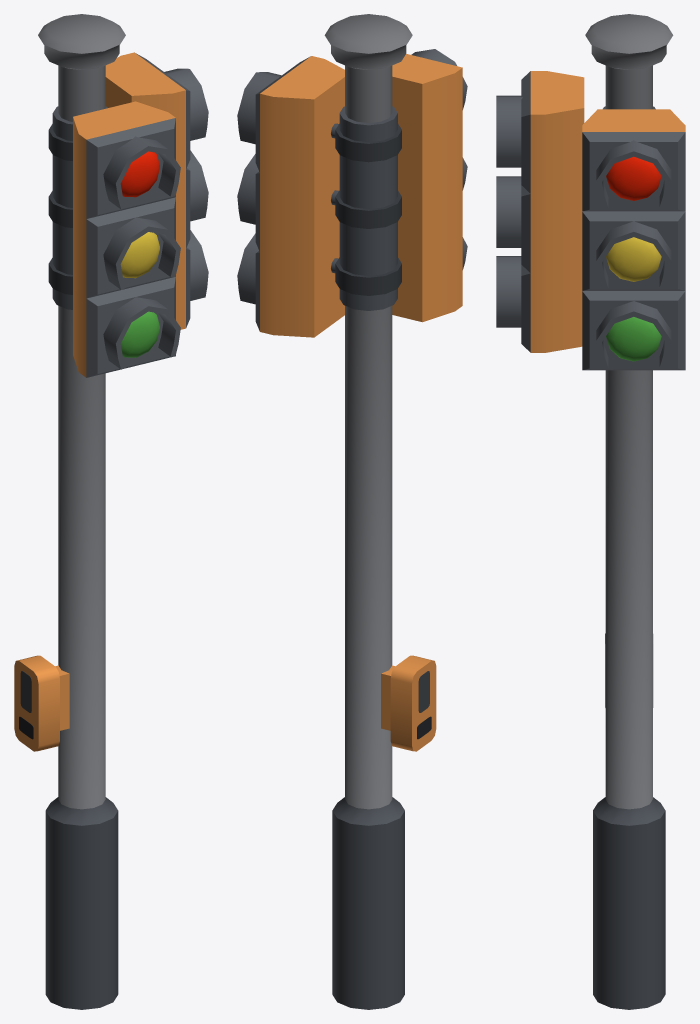
File: Traffic Light_2.fbx
The picture shows the model from 3 angles, left to right: view 1: azimuth 30°, elevation 25°; view 2: azimuth 150°, elevation 25°; view 3: azimuth 270°, elevation 25°; orthographic projection.
Visible parts, largest first — view 1: Traffic Light_2; view 2: Traffic Light_2; view 3: Traffic Light_2.
Boxes of the visible parts, bbox=[...] form: Traffic Light_2: bbox=[14, 14, 208, 1009]; Traffic Light_2: bbox=[237, 14, 467, 1009]; Traffic Light_2: bbox=[496, 14, 685, 1009].
Size of the model in its own units: 50.14 by 279 by 49.45.
